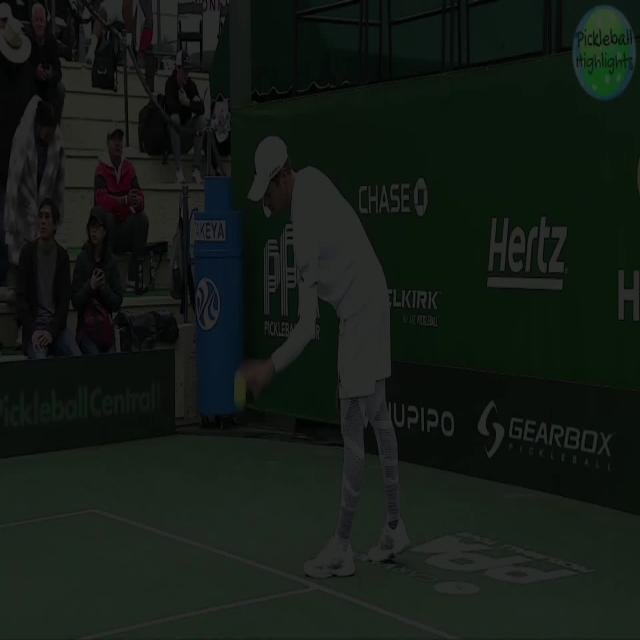ball: (231, 365, 247, 414)
